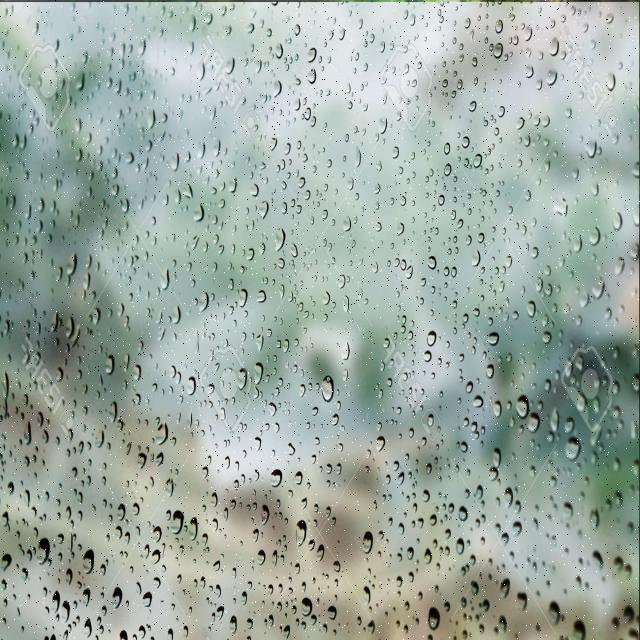raindrop: (288, 513, 310, 558), (30, 530, 52, 572), (164, 504, 186, 544), (318, 368, 338, 411), (181, 510, 201, 551), (151, 414, 170, 456), (590, 264, 606, 310), (146, 521, 168, 553), (101, 399, 123, 431), (114, 192, 132, 231), (189, 195, 207, 234), (394, 252, 414, 287), (545, 596, 565, 631), (371, 427, 392, 458), (62, 245, 80, 280), (512, 584, 532, 615), (146, 542, 166, 572), (272, 222, 289, 256), (338, 289, 356, 321), (108, 582, 126, 614), (80, 546, 96, 582), (586, 546, 605, 576), (586, 498, 600, 538), (422, 321, 442, 349), (358, 532, 378, 560), (551, 193, 570, 222), (514, 386, 530, 420), (156, 262, 172, 296), (101, 347, 118, 379), (338, 334, 356, 364), (232, 360, 248, 393), (561, 438, 582, 463), (0, 364, 9, 422), (426, 605, 446, 631), (577, 284, 592, 317), (610, 252, 626, 282), (510, 514, 526, 544), (496, 572, 512, 602), (142, 104, 157, 136), (568, 232, 585, 260), (559, 494, 573, 528), (168, 300, 182, 334), (160, 472, 177, 500), (48, 590, 62, 624), (46, 306, 60, 340), (545, 36, 563, 62), (136, 586, 154, 612), (0, 545, 15, 576), (194, 289, 210, 318), (272, 77, 286, 110), (268, 283, 287, 307), (185, 366, 198, 401), (605, 68, 620, 98), (268, 462, 284, 490), (252, 544, 268, 572), (267, 544, 280, 578), (338, 212, 352, 243), (296, 596, 314, 620), (302, 66, 320, 90), (51, 364, 68, 389), (323, 602, 343, 623), (252, 356, 267, 384), (539, 372, 554, 400), (494, 610, 508, 640), (510, 494, 526, 520), (16, 128, 29, 160), (469, 389, 487, 412), (21, 416, 33, 450), (236, 283, 249, 314), (127, 362, 143, 387), (560, 352, 572, 385), (68, 324, 82, 352), (256, 199, 270, 227), (438, 156, 453, 182), (313, 542, 326, 572), (113, 504, 129, 528), (502, 480, 514, 512), (486, 443, 500, 470), (456, 501, 470, 528), (426, 248, 439, 277), (270, 39, 285, 64), (146, 571, 163, 593), (527, 408, 540, 436), (358, 582, 372, 608), (195, 58, 208, 86), (183, 12, 197, 38), (134, 34, 148, 60), (110, 75, 124, 101), (70, 112, 83, 140), (253, 328, 266, 356), (258, 502, 272, 528), (62, 566, 76, 592), (64, 310, 79, 334), (548, 404, 560, 434), (304, 42, 319, 66), (107, 178, 118, 210), (574, 391, 588, 416), (586, 130, 598, 159), (363, 617, 378, 640), (469, 246, 482, 272), (588, 224, 602, 248), (492, 392, 504, 420), (351, 142, 363, 170), (328, 411, 344, 432), (336, 266, 348, 294), (562, 414, 576, 438), (194, 138, 206, 166), (168, 146, 180, 174), (88, 303, 100, 331), (81, 616, 95, 640), (540, 325, 553, 350), (222, 54, 235, 79), (72, 71, 85, 96), (0, 314, 12, 341), (392, 217, 406, 240), (290, 462, 306, 482), (610, 206, 621, 235), (486, 328, 501, 349), (58, 599, 70, 625), (419, 484, 432, 508), (210, 136, 222, 162), (214, 600, 227, 624), (196, 570, 208, 596), (80, 586, 92, 612), (544, 68, 558, 90), (266, 400, 280, 422), (374, 382, 388, 404), (72, 144, 86, 166), (198, 462, 212, 484), (329, 556, 343, 578), (181, 182, 196, 202), (281, 437, 296, 457), (627, 239, 640, 262), (131, 498, 145, 519), (21, 483, 31, 512), (418, 348, 434, 366), (454, 536, 466, 560), (244, 16, 256, 40), (78, 46, 90, 70), (114, 299, 126, 323), (80, 268, 92, 292), (238, 586, 250, 610), (17, 562, 29, 586), (204, 378, 217, 400), (421, 544, 432, 570), (458, 435, 471, 457), (188, 232, 201, 254), (82, 248, 93, 274), (467, 576, 480, 598), (373, 220, 388, 239), (40, 422, 50, 450), (155, 110, 169, 130), (498, 530, 512, 550), (308, 109, 320, 132), (94, 426, 106, 449), (34, 194, 46, 217), (7, 130, 19, 153), (123, 528, 134, 553), (209, 487, 220, 512), (5, 474, 16, 499), (301, 101, 314, 122), (136, 619, 149, 640), (484, 362, 496, 384), (388, 142, 400, 164), (216, 402, 228, 424), (134, 449, 146, 471), (492, 40, 504, 62), (525, 298, 536, 322), (402, 543, 413, 567), (298, 188, 310, 210), (244, 244, 257, 264), (227, 612, 237, 638), (122, 146, 134, 167), (278, 622, 292, 640), (221, 21, 234, 40), (368, 258, 379, 280), (212, 582, 223, 604), (22, 202, 33, 224), (480, 596, 491, 618), (332, 438, 344, 458), (288, 240, 300, 260), (290, 96, 302, 116), (492, 18, 504, 38), (524, 60, 536, 80), (534, 274, 544, 298), (574, 351, 584, 375), (396, 468, 406, 492), (248, 181, 260, 201), (172, 184, 182, 208), (201, 8, 213, 28), (210, 556, 222, 576), (143, 138, 156, 156), (248, 526, 261, 544), (0, 508, 9, 534), (228, 174, 238, 197), (378, 116, 390, 135), (602, 10, 614, 29), (82, 129, 94, 148), (310, 432, 324, 448), (117, 624, 131, 640), (31, 351, 44, 368), (399, 192, 410, 212), (522, 24, 533, 44), (522, 129, 532, 151), (589, 178, 600, 198), (488, 466, 499, 486), (282, 137, 292, 159), (94, 140, 105, 160), (244, 612, 254, 634), (252, 434, 262, 456), (463, 378, 474, 398), (514, 113, 526, 131), (486, 312, 498, 330), (267, 135, 279, 153), (132, 390, 144, 408), (76, 436, 85, 460), (35, 408, 44, 432), (563, 104, 573, 125), (570, 163, 580, 184), (474, 482, 484, 503), (33, 218, 45, 235), (278, 200, 288, 220), (473, 150, 483, 170), (460, 130, 470, 150), (376, 359, 386, 379), (380, 333, 390, 353), (296, 174, 306, 194), (346, 174, 356, 194), (184, 146, 194, 166), (307, 447, 317, 467), (322, 502, 332, 522), (69, 462, 79, 482), (424, 412, 434, 432), (370, 182, 381, 200), (511, 30, 520, 52), (428, 513, 439, 531), (336, 26, 347, 44), (267, 610, 276, 632), (210, 231, 220, 250), (448, 207, 458, 226), (540, 310, 549, 331), (579, 20, 589, 38), (542, 112, 551, 132), (462, 12, 472, 30), (407, 11, 417, 29), (406, 570, 416, 588), (423, 462, 433, 480), (386, 374, 396, 392), (292, 22, 302, 40), (344, 98, 354, 116), (442, 138, 452, 156), (168, 362, 178, 380), (323, 460, 333, 478), (221, 506, 230, 526), (210, 516, 220, 534), (231, 476, 240, 496), (265, 581, 275, 599), (417, 514, 426, 534), (467, 98, 478, 114), (354, 16, 365, 32), (542, 158, 551, 177), (522, 188, 532, 205), (476, 230, 486, 247), (334, 462, 344, 479), (180, 623, 190, 640), (468, 419, 478, 436), (210, 257, 218, 278), (471, 305, 482, 320), (497, 100, 506, 118), (504, 252, 513, 270), (534, 78, 544, 94), (438, 74, 448, 90), (544, 281, 552, 301), (419, 432, 427, 452), (300, 150, 310, 166), (224, 452, 232, 472), (394, 574, 404, 590), (111, 522, 122, 536), (164, 626, 175, 640), (173, 369, 182, 386), (75, 490, 84, 507), (588, 37, 596, 55), (461, 312, 470, 328), (455, 218, 464, 234), (276, 599, 284, 617), (396, 520, 405, 536), (560, 10, 568, 26), (532, 110, 540, 126), (456, 77, 464, 93), (465, 232, 473, 248), (394, 108, 402, 124), (292, 560, 300, 576), (76, 510, 84, 526), (436, 194, 445, 208), (550, 147, 560, 159), (470, 53, 478, 68), (462, 413, 469, 430), (530, 245, 539, 258), (549, 17, 556, 33), (542, 136, 550, 150), (379, 38, 386, 54), (280, 178, 288, 192), (449, 88, 457, 101), (526, 107, 532, 121), (473, 74, 478, 88)
